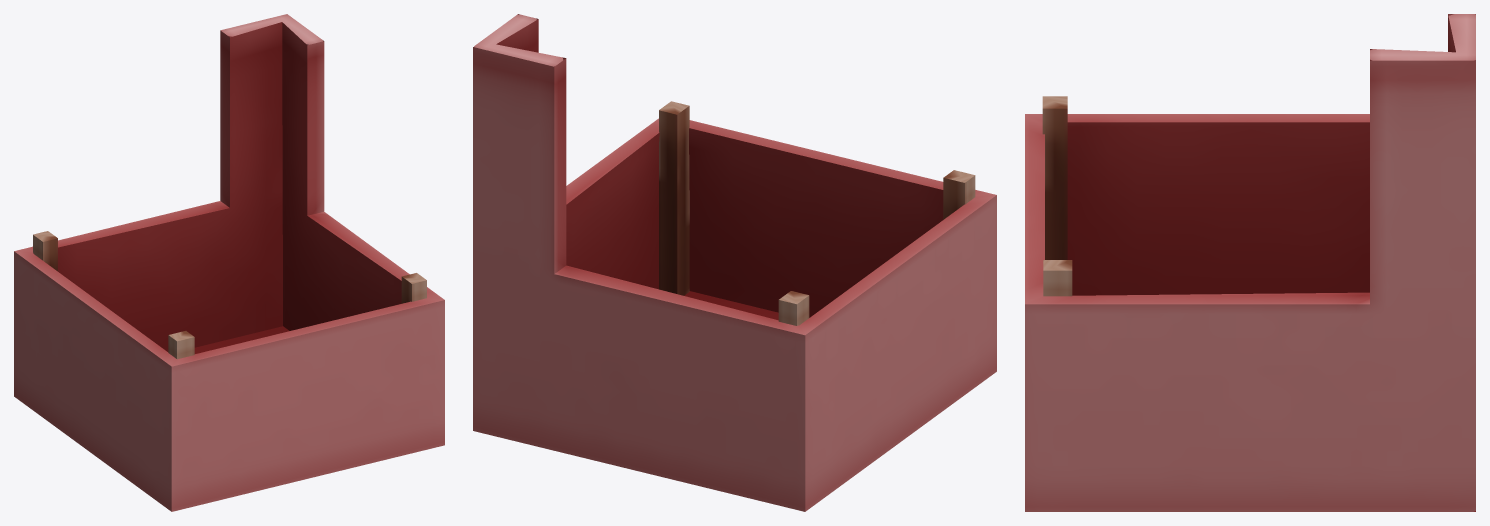
Rendered from B10Broke03.FBX.
The picture shows the model from 3 angles, left to right: view 1: azimuth 30°, elevation 25°; view 2: azimuth 150°, elevation 25°; view 3: azimuth 270°, elevation 25°; orthographic projection. The views are drawn at different scales.
Visible parts, largest first — view 1: B10Broke03; view 2: B10Broke03; view 3: B10Broke03.
Part boxes in pixels (box(x1,y1,x2,y2)): B10Broke03: box(14, 14, 444, 511); B10Broke03: box(473, 14, 996, 511); B10Broke03: box(1025, 14, 1475, 511).
Bounding box in the file's own units: 33.51 × 37.02 × 33.51.
